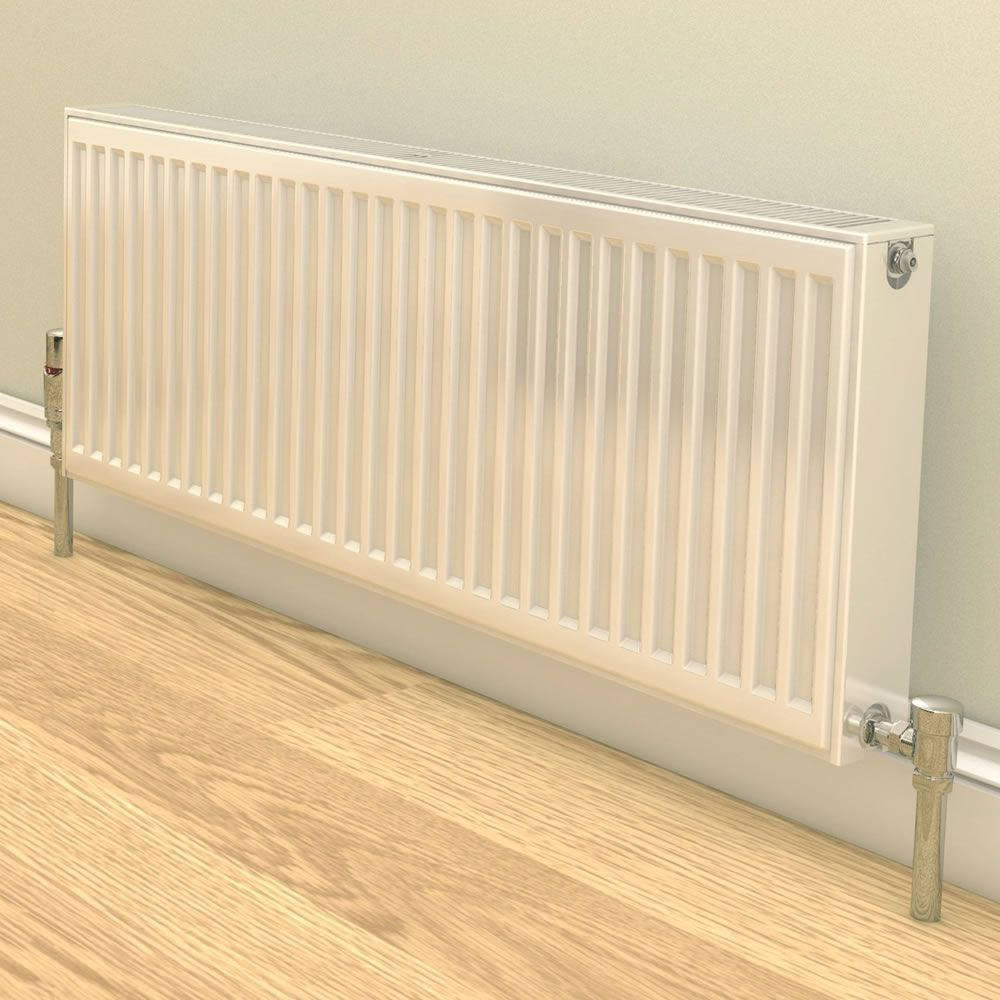Radiator: (37, 89, 969, 791)
